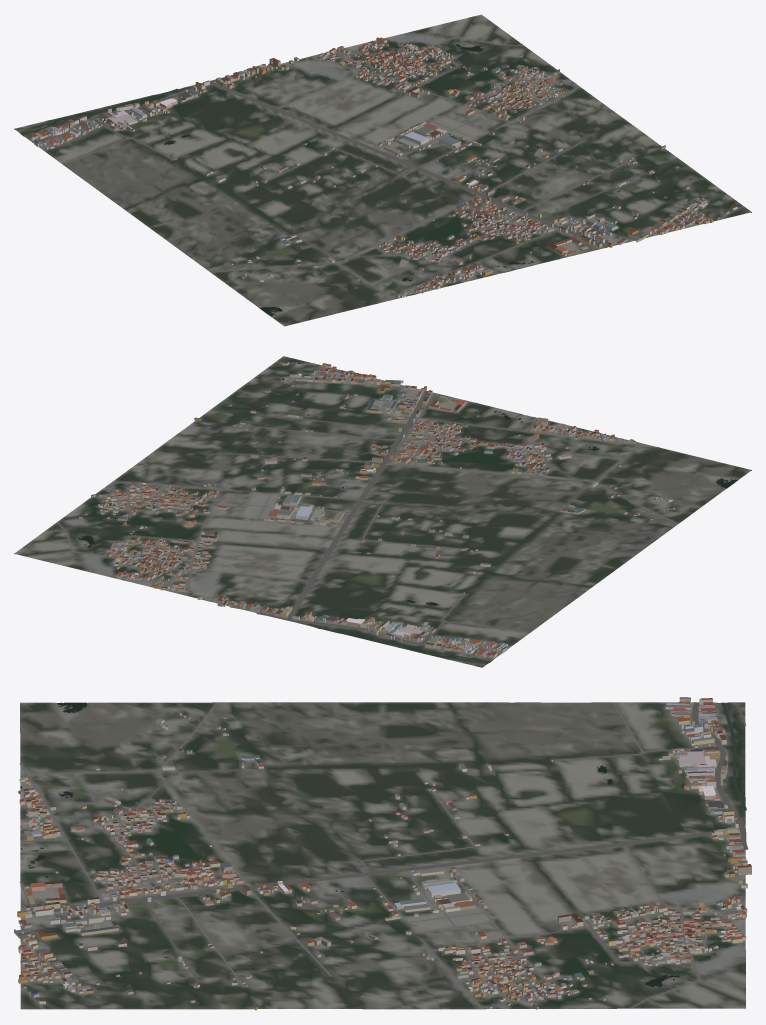
The picture shows the model from 3 angles, top to bottom: view 1: azimuth 30°, elevation 25°; view 2: azimuth 150°, elevation 25°; view 3: azimuth 270°, elevation 25°; orthographic projection. The views are drawn at different scales.
Visible parts, largest first — view 1: ground, buildings, roads, water; view 2: ground, buildings, roads, water; view 3: ground, buildings, roads, water.
Part boxes in pixels (x1=…): ground: x1=14, y1=14, x2=751, y2=326; buildings: x1=26, y1=37, x2=737, y2=297; roads: x1=17, y1=17, x2=743, y2=303; water: x1=22, y1=44, x2=619, y2=315; ground: x1=14, y1=356, x2=751, y2=667; buildings: x1=79, y1=361, x2=675, y2=658; roads: x1=26, y1=362, x2=677, y2=665; water: x1=78, y1=410, x2=737, y2=662; ground: x1=20, y1=702, x2=745, y2=1009; buildings: x1=14, y1=697, x2=751, y2=1010; roads: x1=19, y1=702, x2=748, y2=1009; water: x1=20, y1=702, x2=746, y2=987.
Size of the model in its own units: 1410 by 22.71 by 1427.
